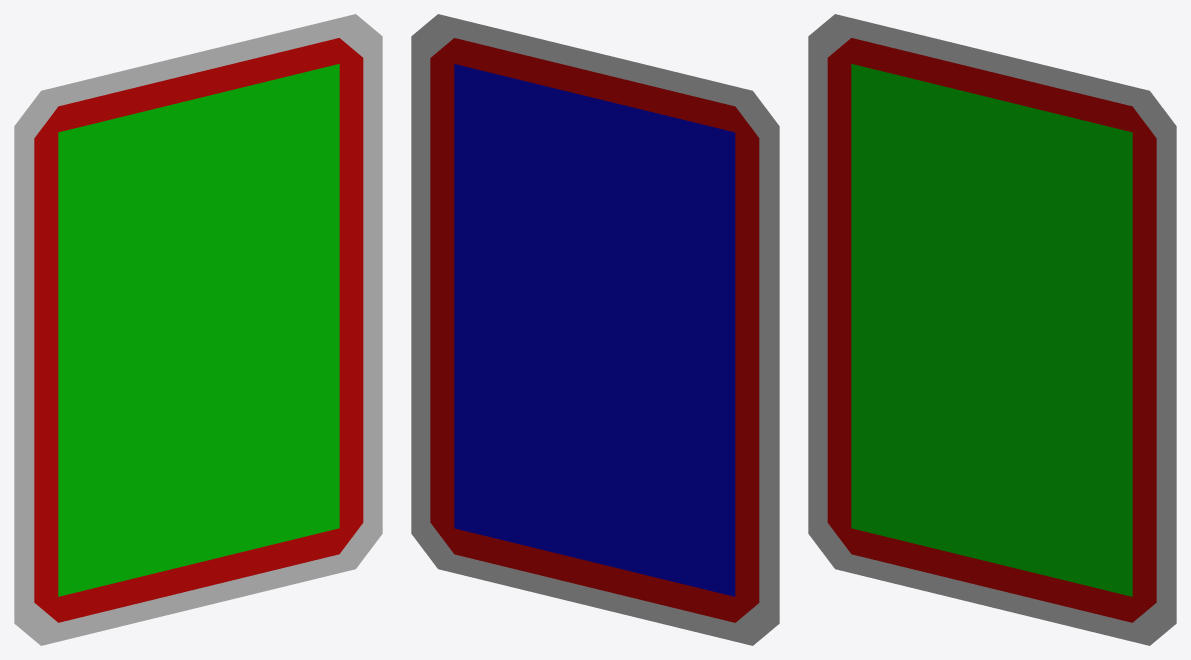
File: Card01.fbx
The picture shows the model from 3 angles, left to right: view 1: azimuth 30°, elevation 25°; view 2: azimuth 150°, elevation 25°; view 3: azimuth 330°, elevation 25°; orthographic projection.
Parts seen in each view (by area): view 1: Mesh_Card01, Mesh_CardSelection; view 2: Mesh_Card01, Mesh_CardSelection; view 3: Mesh_Card01, Mesh_CardSelection.
Part boxes in pixels (x1,y1,x2,y2): Mesh_Card01: [34, 38, 363, 622]; Mesh_CardSelection: [14, 14, 382, 645]; Mesh_Card01: [430, 38, 759, 622]; Mesh_CardSelection: [411, 14, 779, 645]; Mesh_Card01: [827, 38, 1156, 622]; Mesh_CardSelection: [808, 14, 1176, 645].
Size of the model in its own units: 1.72 by 0.00872 by 2.47.
